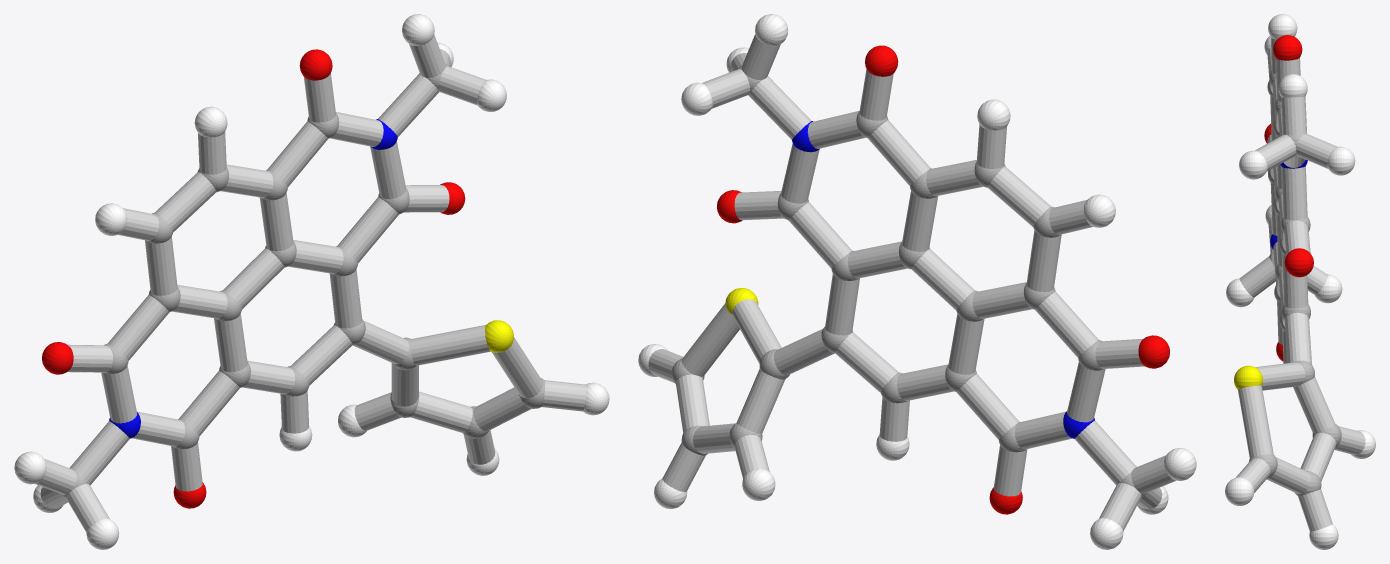
File: Dimethyl_Naphthalene_Dicarboximide_Phi_10_Theta_220_Thiophene.glb
The picture shows the model from 3 angles, left to right: view 1: azimuth 30°, elevation 25°; view 2: azimuth 150°, elevation 25°; view 3: azimuth 270°, elevation 25°; orthographic projection. The views are drawn at different scales.
Visible parts, largest first — view 1: grp14119, grp7241, grp1, grp12309, grp13757, grp11585; view 2: grp14119, grp7241, grp1, grp12309, grp11585; view 3: grp14119, grp7241, grp1, grp12309, grp13757.
Boxes of the visible parts, x1,y1,x2,y2 form: grp14119: (35, 35, 586, 532); grp7241: (14, 14, 609, 549); grp1: (60, 63, 545, 498); grp12309: (42, 49, 465, 508); grp13757: (485, 320, 513, 352); grp11585: (109, 119, 397, 438); grp14119: (648, 34, 1175, 531); grp7241: (638, 14, 1196, 549); grp1: (671, 66, 1146, 497); grp12309: (717, 45, 1169, 514); grp11585: (792, 121, 1094, 438); grp14119: (1236, 36, 1365, 531); grp7241: (1225, 14, 1375, 549); grp1: (1249, 71, 1341, 496); grp12309: (1264, 35, 1313, 361); grp13757: (1234, 365, 1262, 389).
Size of the model in its own units: 11.98 by 9.91 by 3.1.
